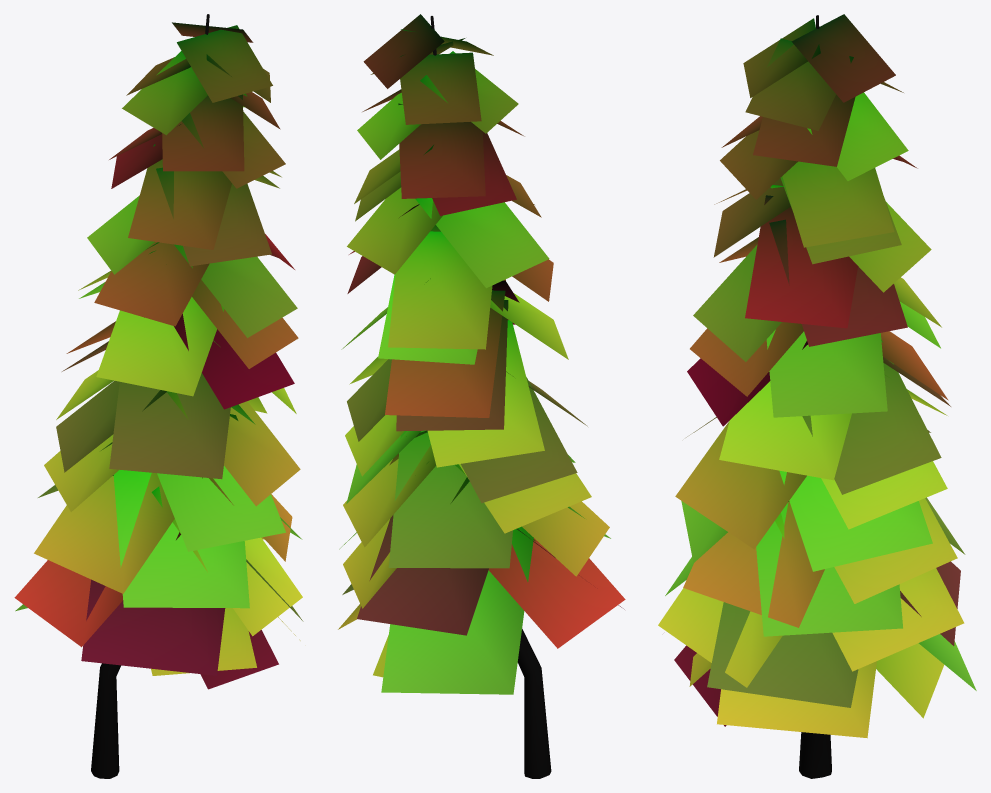
The model's file is Tree_7.fbx.
The picture shows the model from 3 angles, left to right: view 1: azimuth 30°, elevation 25°; view 2: azimuth 150°, elevation 25°; view 3: azimuth 270°, elevation 25°; orthographic projection. The views are drawn at different scales.
Visible parts, largest first — view 1: Tree_7; view 2: Tree_7; view 3: Tree_7.
Boxes of the visible parts, bbox=[...] form: Tree_7: bbox=[14, 14, 303, 778]; Tree_7: bbox=[338, 14, 625, 778]; Tree_7: bbox=[658, 14, 976, 778].
Bounding box in the file's own units: 692 × 2039 × 729.
